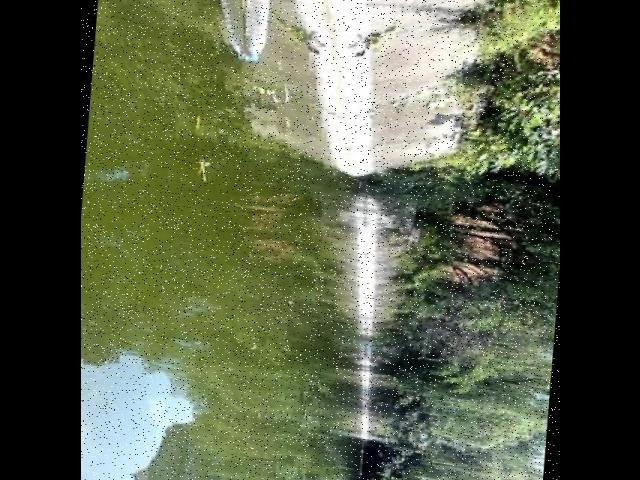Bottle: (235, 0, 274, 67)
